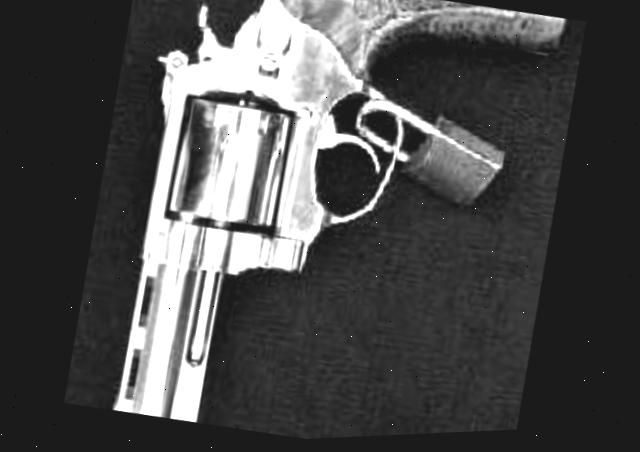pistol: (76, 0, 574, 449)
